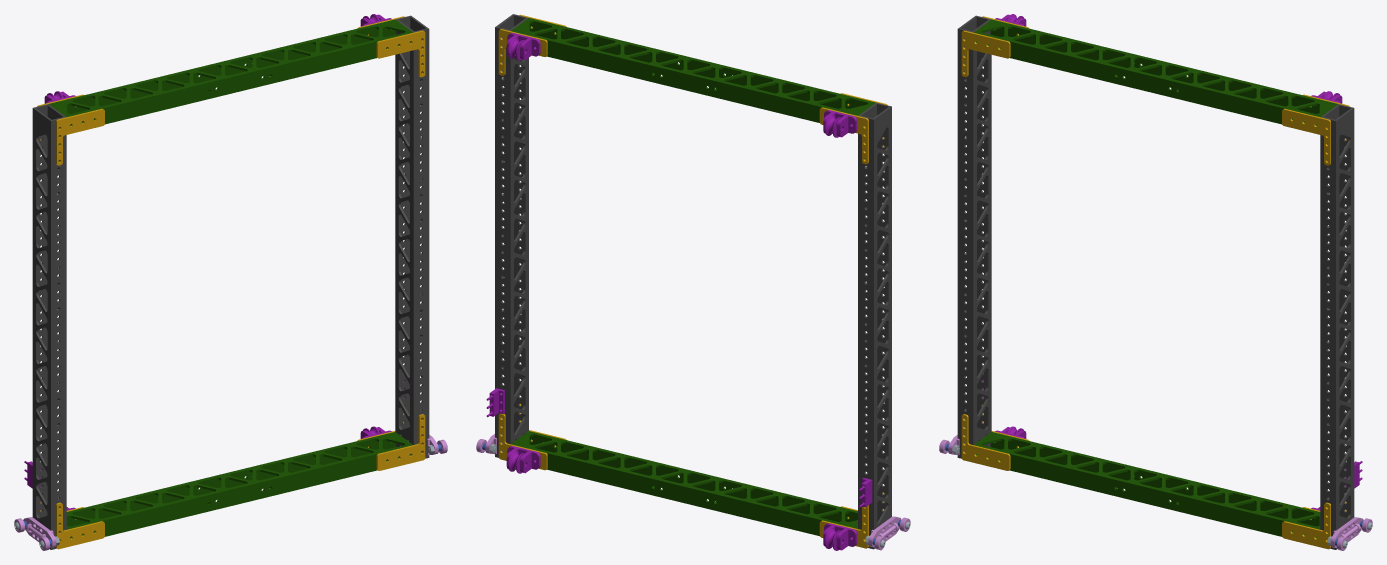
3 views of the same model, side by side, from view 1: azimuth 30°, elevation 25°; view 2: azimuth 150°, elevation 25°; view 3: azimuth 330°, elevation 25° (orthographic).
Visible parts, largest first — view 1: Middle Stage Side Tube (×2), Middle Stage Top & Bottom Tube (×2), Middle Stage Tube Connector Gusset (×4); view 2: Middle Stage Side Tube (×2), Middle Stage Top & Bottom Tube (×2), 4mm Dyneema Cable Pulley Bracket ELEV-PULLEY-001 (×4), Middle Stage Tube Connector Gusset (×3); view 3: Middle Stage Side Tube (×2), Middle Stage Top & Bottom Tube (×2), Middle Stage Tube Connector Gusset (×4).
Boxes of the visible parts, x1,y1,x2,y2 form: Middle Stage Side Tube (×2): [32, 15, 429, 549]; Middle Stage Top & Bottom Tube (×2): [49, 19, 413, 538]; Middle Stage Tube Connector Gusset (×4): [56, 30, 425, 549]; Middle Stage Side Tube (×2): [495, 14, 891, 549]; Middle Stage Top & Bottom Tube (×2): [511, 18, 875, 536]; 4mm Dyneema Cable Pulley Bracket ELEV-PULLEY-001 (×4): [506, 32, 857, 550]; Middle Stage Tube Connector Gusset (×3): [498, 29, 868, 470]; Middle Stage Side Tube (×2): [957, 15, 1354, 549]; Middle Stage Top & Bottom Tube (×2): [973, 19, 1337, 538]; Middle Stage Tube Connector Gusset (×4): [961, 30, 1330, 549].
Bounding box in the file's own units: 0.6544 × 0.6642 × 0.1076.
